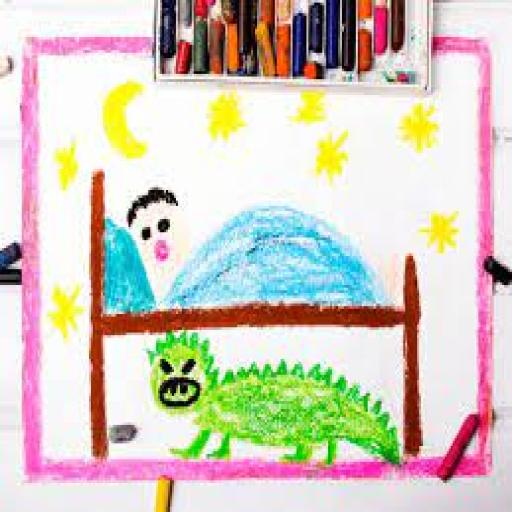person: (112, 182, 391, 312)
